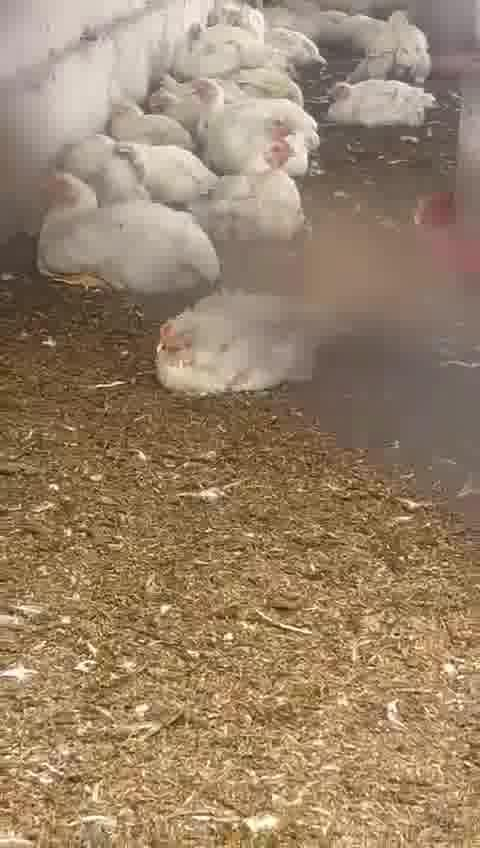AbNormal: (151, 286, 340, 396), (68, 133, 196, 198), (108, 94, 203, 148), (180, 22, 257, 75), (144, 70, 213, 113)
Normal: (34, 166, 213, 297), (189, 75, 342, 148), (216, 144, 321, 247), (327, 68, 440, 128)
